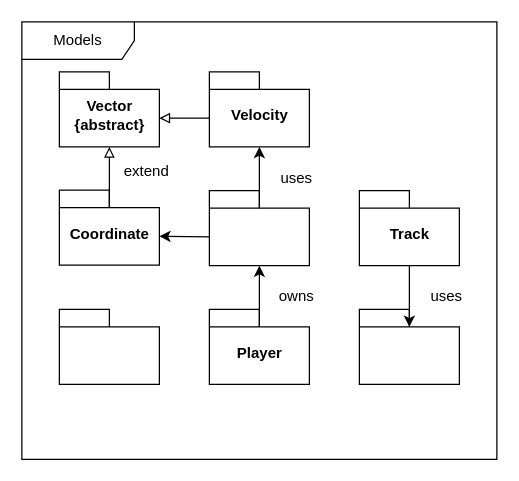
Image size: 519x481. Some labels were removed from this diagram. Here are the shapes that lost their labels. From the top down, the centre of each, then its label:
At point (258, 227): "Car".
At point (108, 346): "Possible Turns".
At point (408, 346): "Linear Function".
